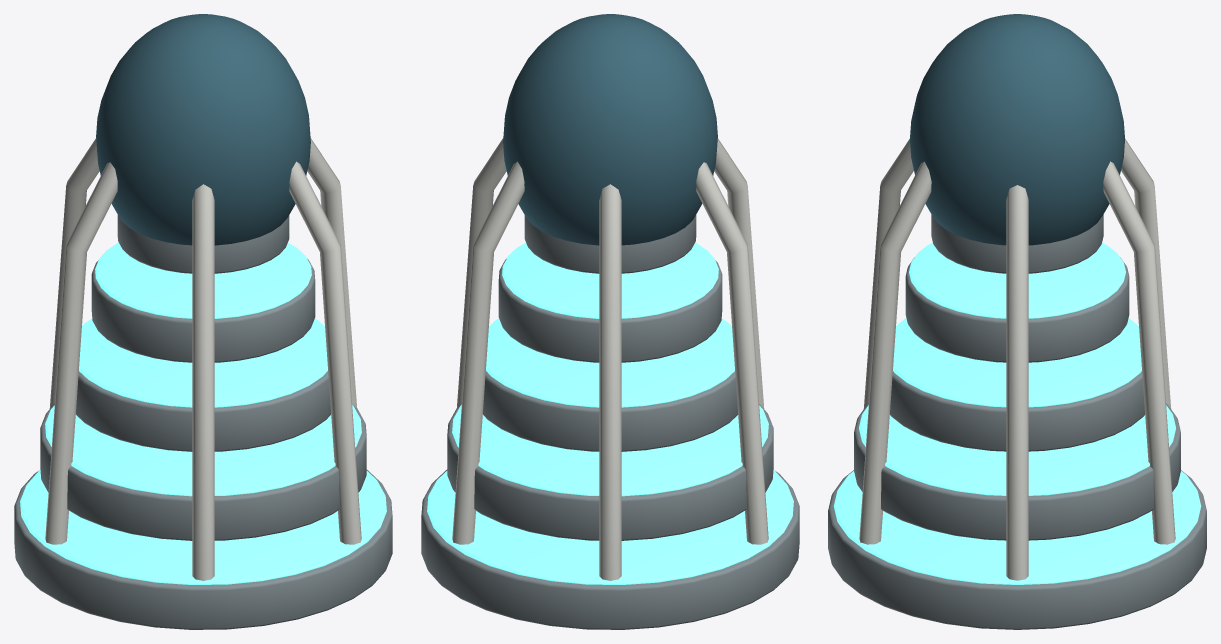
File: echelon-core.glb
3 views of the same model, side by side, from view 1: azimuth 30°, elevation 25°; view 2: azimuth 150°, elevation 25°; view 3: azimuth 270°, elevation 25° (orthographic).
Visible parts, largest first — view 1: NC brushed titanium.014, NC cyan.009, NC sapphire glazing.011, NC ceramic ivory.012; view 2: NC brushed titanium.014, NC cyan.009, NC sapphire glazing.011, NC ceramic ivory.012; view 3: NC brushed titanium.014, NC cyan.009, NC sapphire glazing.011, NC ceramic ivory.012.
Boxes of the visible parts, x1,y1,x2,y2 form: NC brushed titanium.014: (14,215,392,629); NC cyan.009: (20,242,386,584); NC sapphire glazing.011: (96,14,310,245); NC ceramic ivory.012: (45,138,361,580); NC brushed titanium.014: (421,215,799,629); NC cyan.009: (427,242,793,584); NC sapphire glazing.011: (503,14,717,245); NC ceramic ivory.012: (452,138,768,580); NC brushed titanium.014: (828,214,1206,629); NC cyan.009: (833,242,1201,584); NC sapphire glazing.011: (910,14,1124,245); NC ceramic ivory.012: (859,138,1175,580).
Size of the model in its own units: 4.4 by 6.78 by 4.4.
